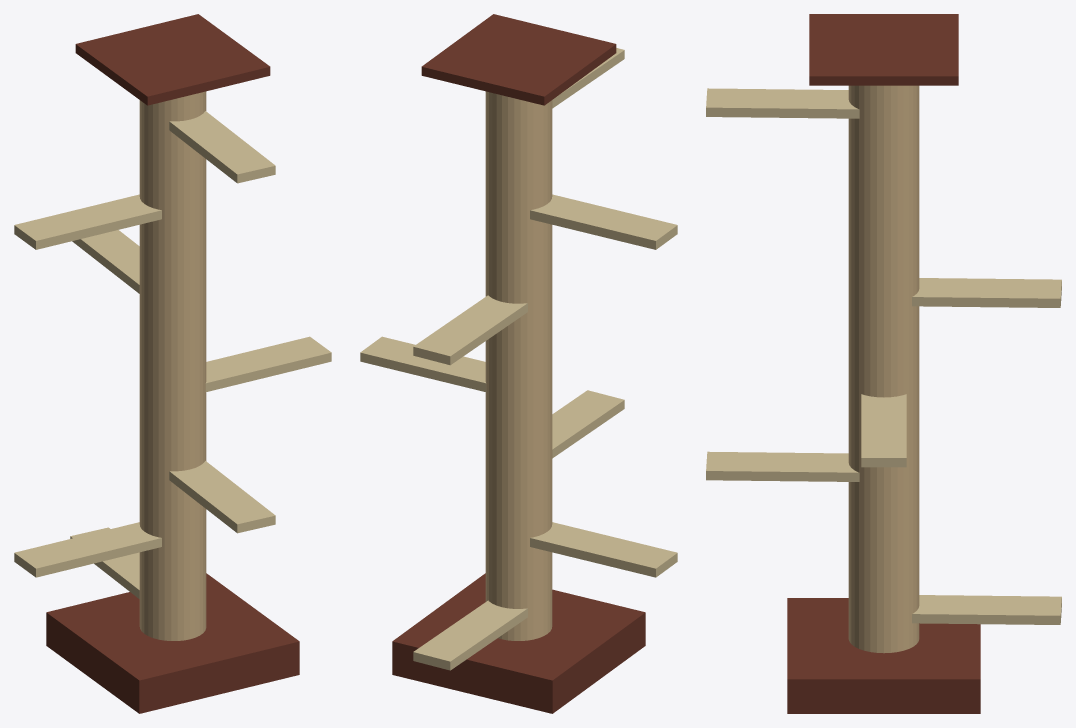
File: Cat Tower.fbx
3 renders of one model, left to right at view 1: azimuth 30°, elevation 25°; view 2: azimuth 150°, elevation 25°; view 3: azimuth 270°, elevation 25°, orthographic. The views are drawn at different scales.
Parts seen in each view (by area): view 1: Cylinder.012, Cube.004, Cube.005, Cube.007, Cube.002, Cube.003, Cube.008, Cube.000, Cube.001, Cube.006; view 2: Cylinder.012, Cube.004, Cube.005, Cube.007, Cube.002, Cube.001, Cube.006, Cube.003, Cube.000, Cube.008; view 3: Cylinder.012, Cube.004, Cube.005, Cube.008, Cube.000, Cube.001, Cube.006, Cube.003.
Boxes of the visible parts, box(x1,y1,x2,y2) form: Cylinder.012: box(139, 91, 206, 640); Cube.004: box(46, 573, 299, 713); Cube.005: box(75, 14, 270, 105); Cube.007: box(14, 194, 161, 249); Cube.002: box(14, 522, 161, 577); Cube.003: box(205, 336, 331, 391); Cube.008: box(169, 111, 275, 183); Cube.000: box(169, 461, 275, 533); Cube.001: box(72, 230, 139, 293); Cube.006: box(70, 527, 139, 598); Cylinder.012: box(485, 91, 552, 640); Cube.004: box(392, 573, 645, 713); Cube.005: box(421, 14, 616, 105); Cube.007: box(530, 194, 677, 249); Cube.002: box(530, 522, 677, 577); Cube.001: box(413, 295, 527, 365); Cube.006: box(413, 600, 527, 670); Cube.003: box(360, 336, 486, 391); Cube.000: box(552, 390, 624, 458); Cube.008: box(552, 48, 624, 108); Cylinder.012: box(848, 85, 919, 653); Cube.004: box(787, 598, 980, 713); Cube.005: box(809, 14, 958, 85); Cube.008: box(706, 88, 859, 118); Cube.000: box(706, 451, 859, 481); Cube.001: box(912, 278, 1061, 307); Cube.006: box(912, 595, 1061, 624); Cube.003: box(861, 394, 906, 467).
Size of the model in its own units: 287 by 560 by 288.
